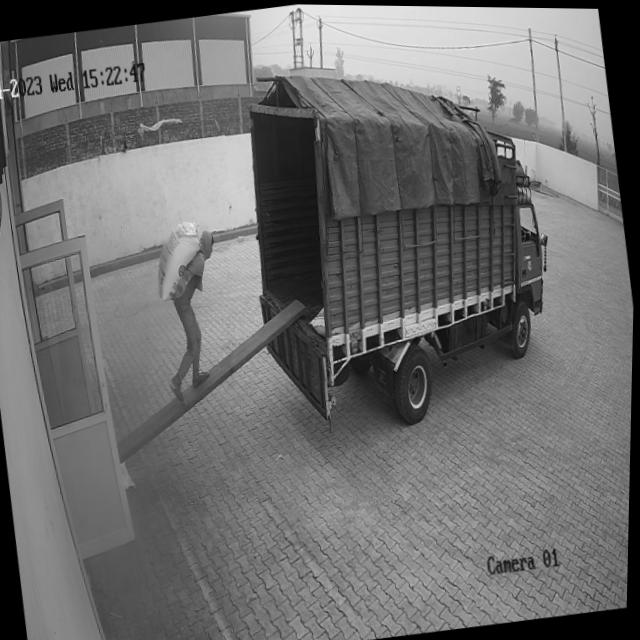sack: (149, 218, 208, 302)
